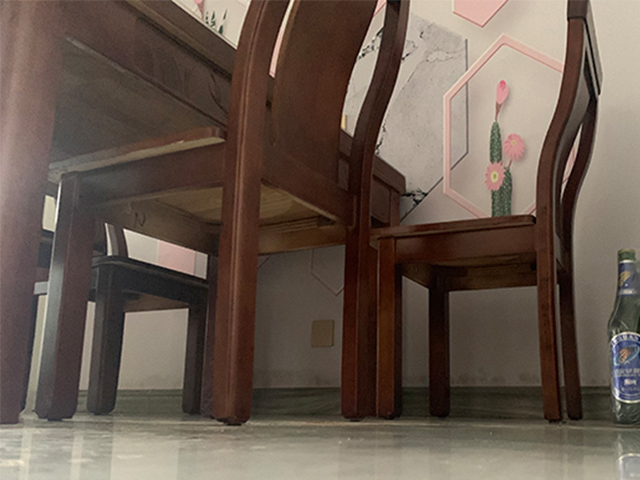stool: (29, 1, 406, 428), (367, 1, 604, 424), (33, 196, 208, 414)
table: (1, 1, 408, 421)
